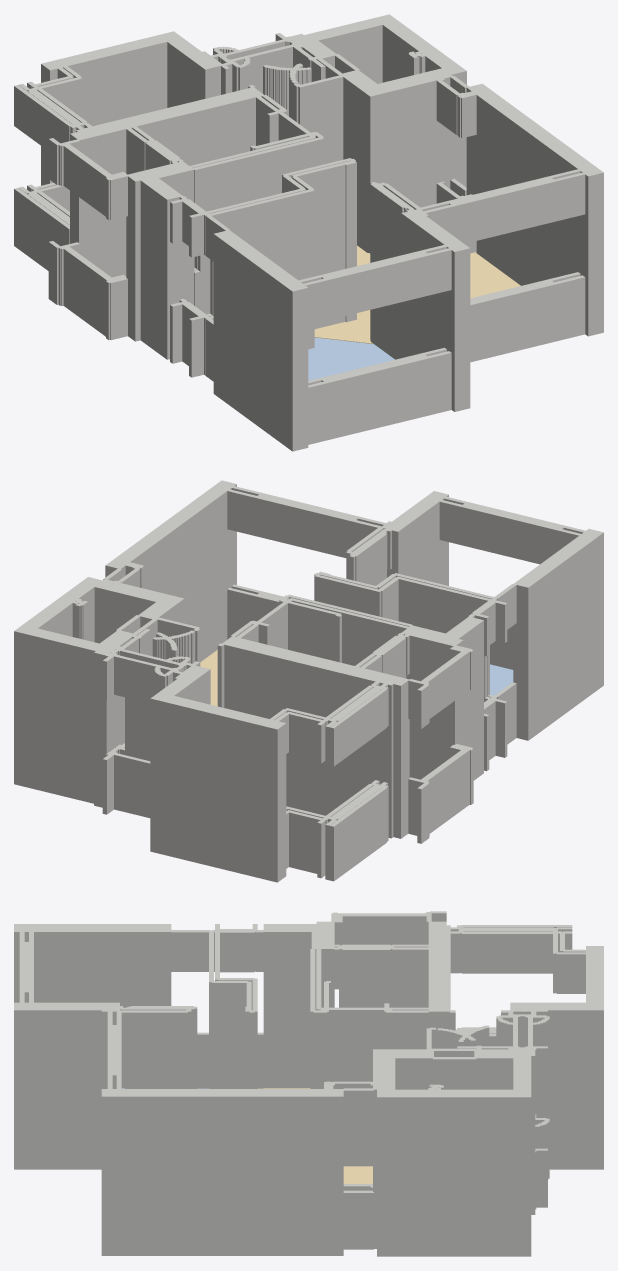
The picture shows the model from 3 angles, top to bottom: view 1: azimuth 30°, elevation 25°; view 2: azimuth 150°, elevation 25°; view 3: azimuth 270°, elevation 25°; orthographic projection. The views are drawn at different scales.
Parts seen in each view (by area): view 1: walls, room:living:3, room:bedroom:4; view 2: walls, room:bedroom:4; view 3: walls, room:living:3.
Boxes of the visible parts, bbox=[...] form: walls: bbox=[14, 14, 603, 451]; room:living:3: bbox=[314, 245, 520, 343]; room:bedroom:4: bbox=[308, 337, 394, 380]; walls: bbox=[14, 480, 603, 882]; room:bedroom:4: bbox=[490, 664, 513, 695]; walls: bbox=[14, 911, 603, 1256]; room:living:3: bbox=[258, 1088, 372, 1183].
Size of the model in its own units: 7.02 by 2.8 by 9.4.
